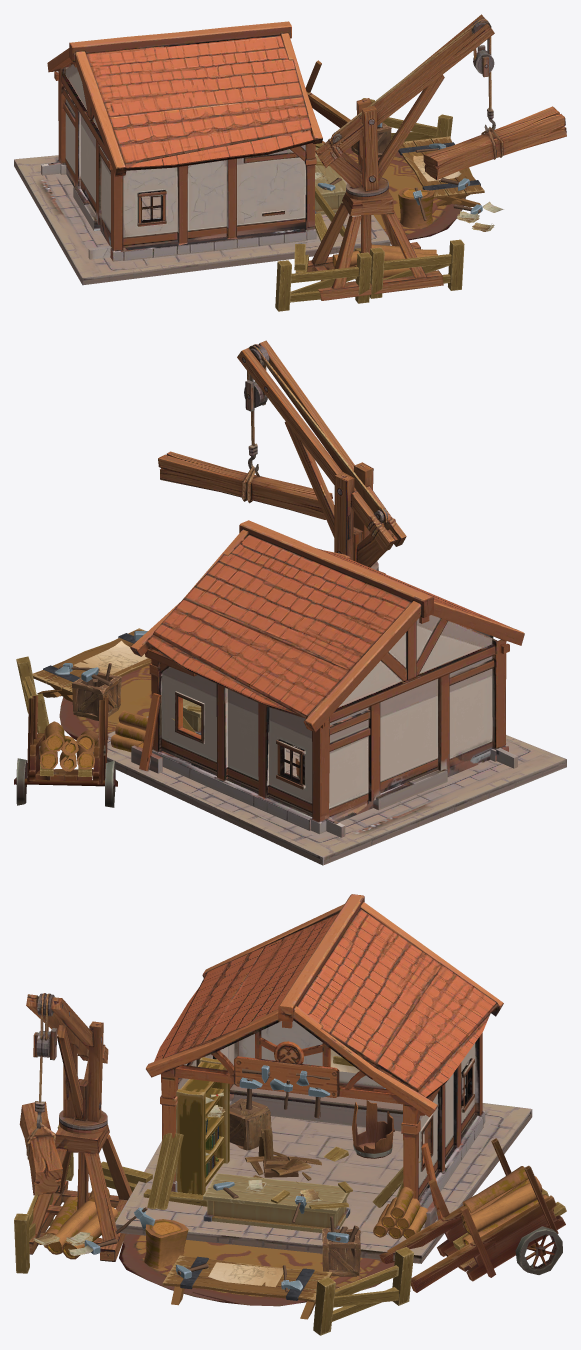
File: MainCityDecor_Builder_Town.glb
The picture shows the model from 3 angles, top to bottom: view 1: azimuth 30°, elevation 25°; view 2: azimuth 150°, elevation 25°; view 3: azimuth 270°, elevation 25°; orthographic projection. The views are drawn at different scales.
Parts seen in each view (by area): view 1: EnvMaincity_Detail__Construction__u3047414557170503189, EnvMaincity_Detail__Catapult__u2504737795404762645, EnvCampsite_Detail__Rug__3__un6992159947729433067, EnvCampsite_Detail__Table__1__u6511222160292548117, EnvMaincity_Detail__Log___2_2__un9202747608524354027, EnvMaincity_Detail__Table___1__un6266628849728188907, EnvCampsite_Detail__Cart__2__u6462426902799158805, EnvCampsite_Detail__Batten_1__u4892705877385383445, EnvCampsite_Detail__Batten_3__u3807745627110018581, EnvCampsite_Detail__Batten_2__un8883783902994264555, EnvCampsite_Detail__Batten_2__un114034601225974251, EnvCampsite_Detail__Batten_3__u829183110442356245 (+3 smaller); view 2: EnvMaincity_Detail__Construction__u3047414557170503189, EnvMaincity_Detail__Catapult__u2504737795404762645, EnvCampsite_Detail__Cart__2__u6462426902799158805, EnvCampsite_Detail__Rug__3__un6992159947729433067, EnvCampsite_Detail__Table__1__u6511222160292548117, EnvCampsite_Detail__Box__4__u7473120906303540757, EnvMaincity_Detail__Draft__u8440383751487000085; view 3: EnvMaincity_Detail__Construction__u3047414557170503189, EnvMaincity_Detail__Catapult__u2504737795404762645, EnvCampsite_Detail__Cart__2__u6462426902799158805, EnvCampsite_Detail__Rug__3__un6992159947729433067, EnvMaincity_Detail__Table___1__un6266628849728188907, SM_PROP_bookshelf_dungeon_02__un2522685693344903659, EnvCampsite_Detail__Table__1__u6511222160292548117, EnvMaincity_Detail__Log___2_2__un9202747608524354027, EnvCampsite_Detail__Cask__1__un1819890238149849579, EnvCampsite_Detail__Box__4__u5986923078598364693, EnvCampsite_Detail__Box___3__un4184103337692525035, EnvCampsite_Detail__Box__4__u7473120906303540757 (+13 smaller).
Part boxes in pixels (<box>): EnvMaincity_Detail__Construction__u3047414557170503189: <box>14,21,390,285</box>; EnvMaincity_Detail__Catapult__u2504737795404762645: <box>307,14,566,300</box>; EnvCampsite_Detail__Rug__3__un6992159947729433067: <box>340,147,465,240</box>; EnvCampsite_Detail__Table__1__u6511222160292548117: <box>398,136,484,207</box>; EnvMaincity_Detail__Log___2_2__un9202747608524354027: <box>398,187,434,228</box>; EnvMaincity_Detail__Table___1__un6266628849728188907: <box>315,147,346,214</box>; EnvCampsite_Detail__Cart__2__u6462426902799158805: <box>305,60,350,143</box>; EnvCampsite_Detail__Batten_1__u4892705877385383445: <box>275,260,291,311</box>; EnvCampsite_Detail__Batten_3__u3807745627110018581: <box>448,239,464,290</box>; EnvCampsite_Detail__Batten_2__un8883783902994264555: <box>383,254,451,270</box>; EnvCampsite_Detail__Batten_2__un114034601225974251: <box>291,267,358,283</box>; EnvCampsite_Detail__Batten_3__u829183110442356245: <box>355,252,371,303</box>; EnvMaincity_Detail__Construction__u3047414557170503189: <box>98,520,566,865</box>; EnvMaincity_Detail__Catapult__u2504737795404762645: <box>158,340,406,574</box>; EnvCampsite_Detail__Cart__2__u6462426902799158805: <box>14,695,117,807</box>; EnvCampsite_Detail__Rug__3__un6992159947729433067: <box>59,665,151,739</box>; EnvCampsite_Detail__Table__1__u6511222160292548117: <box>32,628,151,701</box>; EnvCampsite_Detail__Box__4__u7473120906303540757: <box>72,672,121,720</box>; EnvMaincity_Detail__Draft__u8440383751487000085: <box>73,640,147,674</box>; EnvMaincity_Detail__Construction__u3047414557170503189: <box>115,894,532,1263</box>; EnvMaincity_Detail__Catapult__u2504737795404762645: <box>19,993,132,1261</box>; EnvCampsite_Detail__Cart__2__u6462426902799158805: <box>379,1138,565,1292</box>; EnvCampsite_Detail__Rug__3__un6992159947729433067: <box>119,1233,394,1306</box>; EnvMaincity_Detail__Table___1__un6266628849728188907: <box>203,1173,350,1232</box>; SM_PROP_bookshelf_dungeon_02__un2522685693344903659: <box>175,1057,229,1194</box>; EnvCampsite_Detail__Table__1__u6511222160292548117: <box>162,1255,332,1319</box>; EnvMaincity_Detail__Log___2_2__un9202747608524354027: <box>144,1219,188,1268</box>; EnvCampsite_Detail__Cask__1__un1819890238149849579: <box>352,1100,394,1158</box>; EnvCampsite_Detail__Box__4__u5986923078598364693: <box>229,1098,271,1150</box>; EnvCampsite_Detail__Box___3__un4184103337692525035: <box>245,1129,321,1180</box>; EnvCampsite_Detail__Box__4__u7473120906303540757: <box>322,1228,360,1276</box>.
Size of the model in its own units: 10.38 by 5.94 by 9.96.
Materials: 15 (15 with a texture image).
